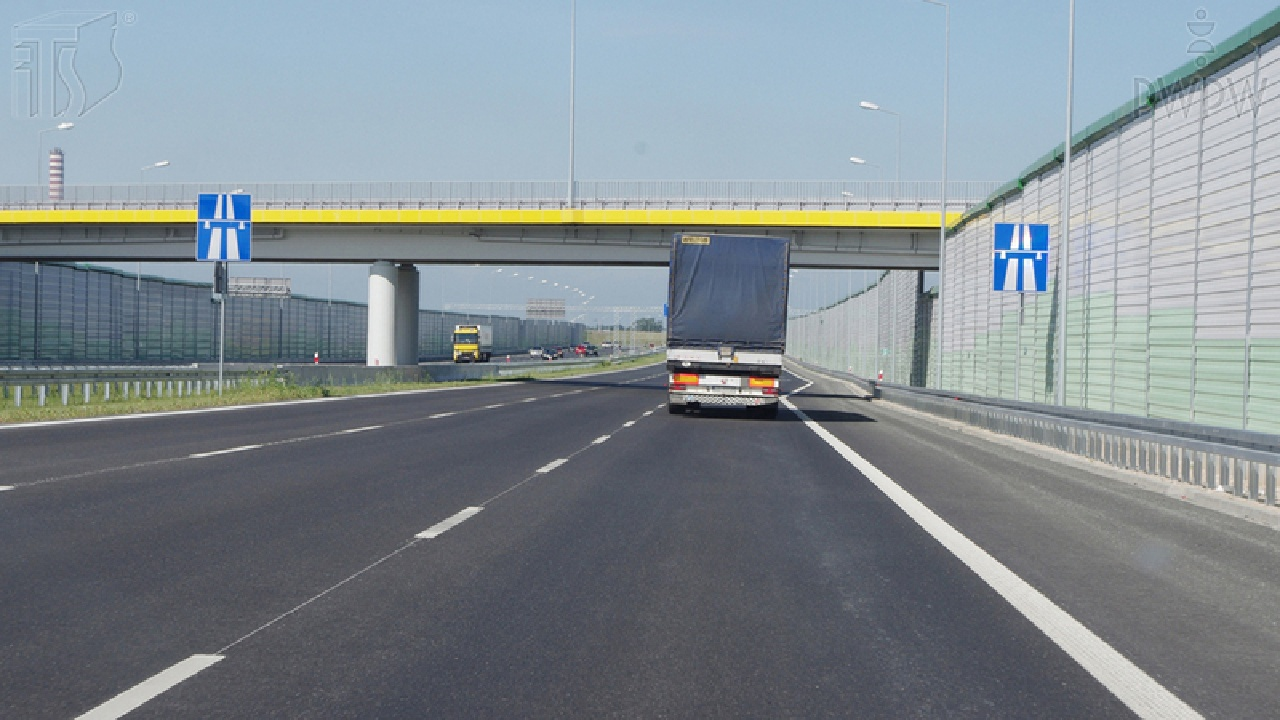D9: (198, 192, 253, 262), (994, 222, 1047, 293)
